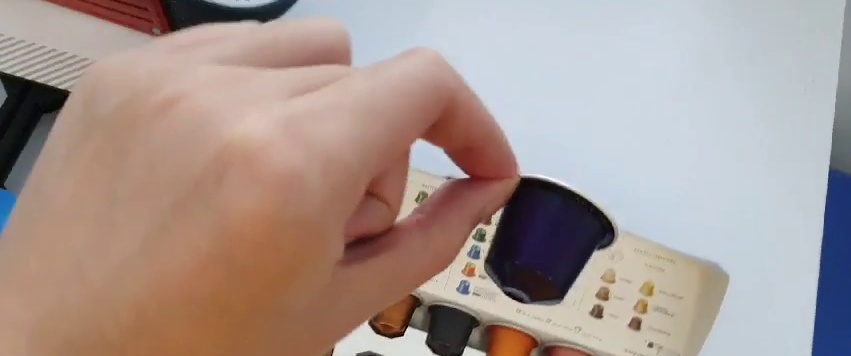capsule_2: (486, 169, 619, 310)
